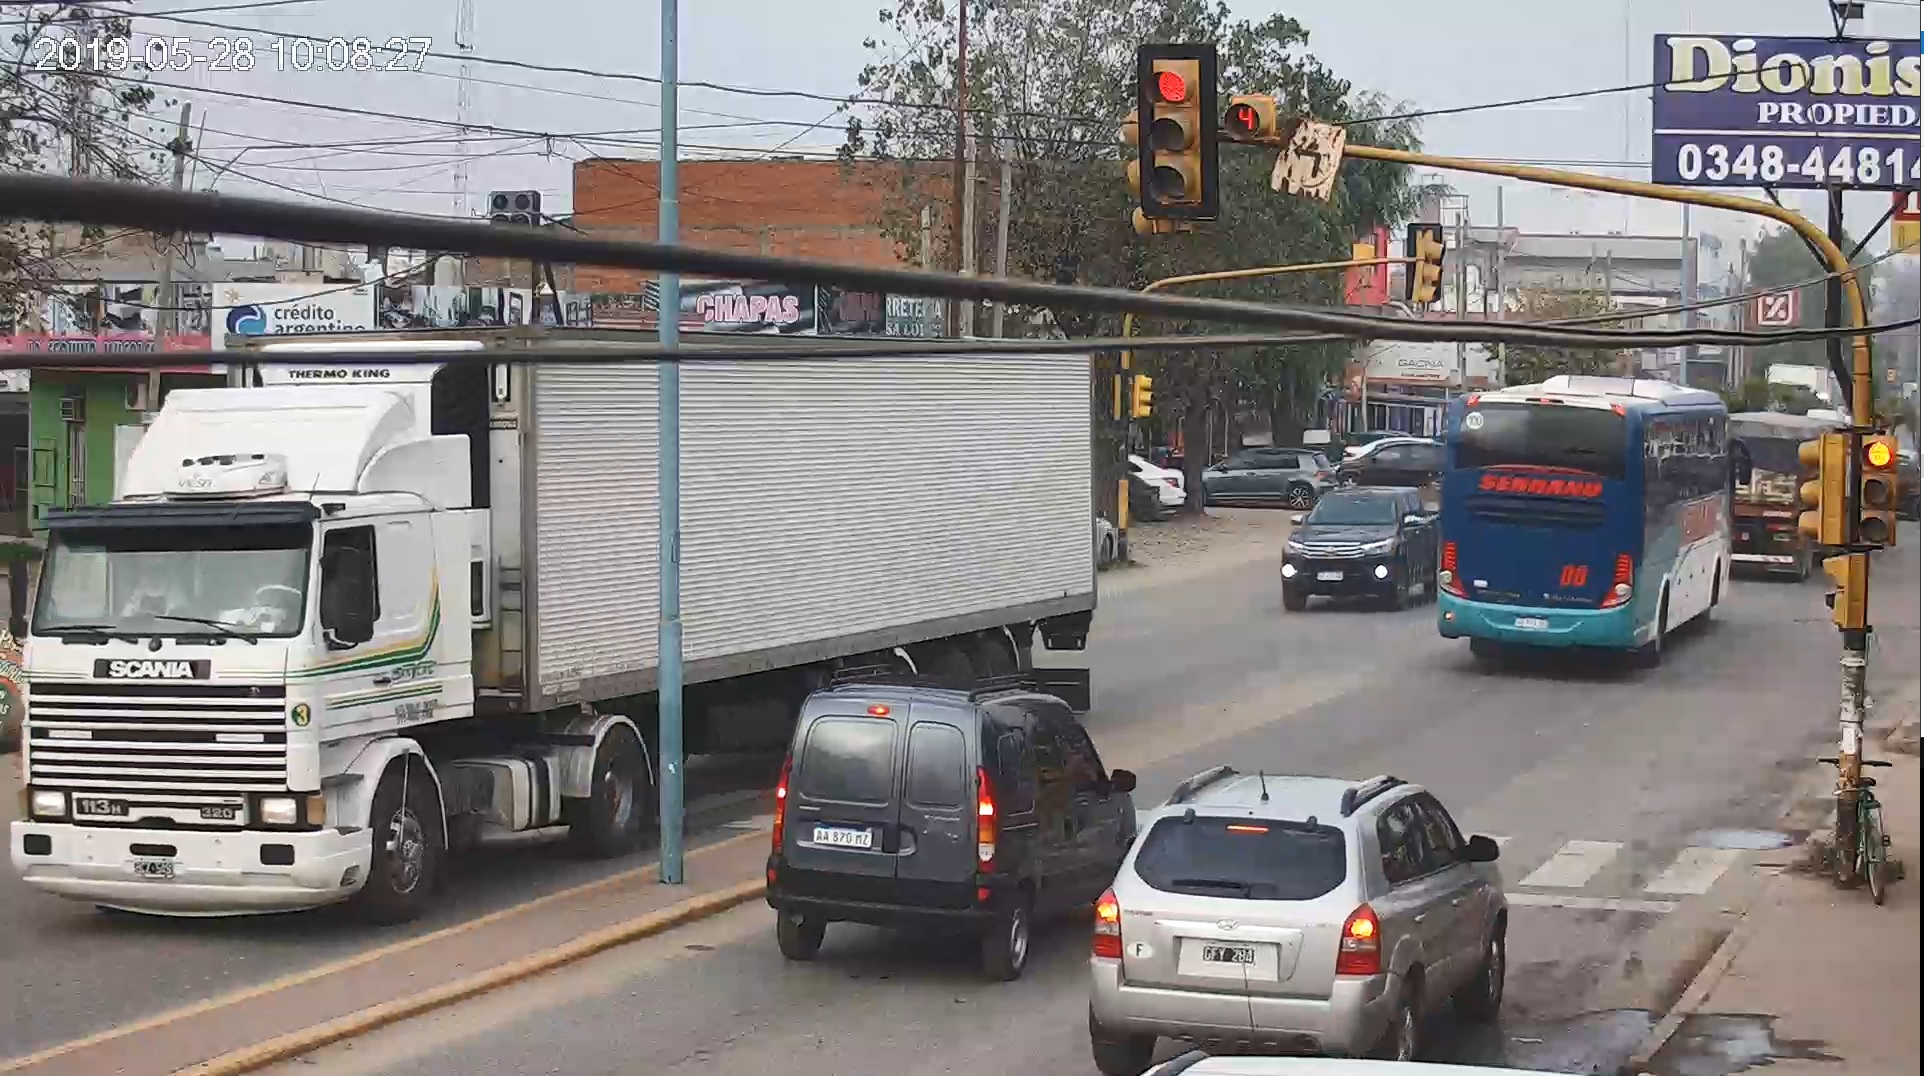bus: (1424, 362, 1742, 686)
car: (1080, 759, 1512, 1076), (740, 664, 1138, 995), (1261, 477, 1454, 625)
truck: (3, 319, 1107, 931)
